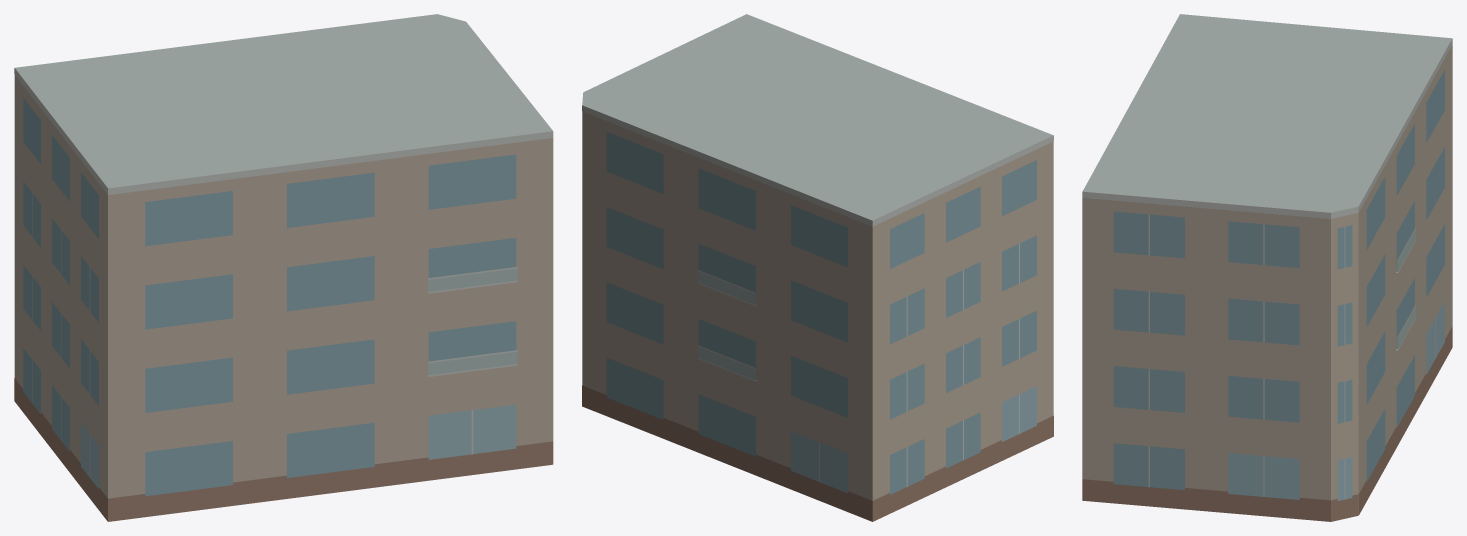
File: survey-upis-32667459.glb
The picture shows the model from 3 angles, left to right: view 1: azimuth 30°, elevation 25°; view 2: azimuth 150°, elevation 25°; view 3: azimuth 270°, elevation 25°; orthographic projection. The views are drawn at different scales.
Visible parts, largest first — view 1: survey-upis-32667459.tmp; view 2: survey-upis-32667459.tmp; view 3: survey-upis-32667459.tmp.
Boxes of the visible parts, box(x1,y1,x2,y2) form: survey-upis-32667459.tmp: box(14, 14, 553, 521); survey-upis-32667459.tmp: box(582, 14, 1053, 521); survey-upis-32667459.tmp: box(1082, 14, 1452, 521).
Bounding box in the file's own units: 16.84 × 12.2 × 13.25.
